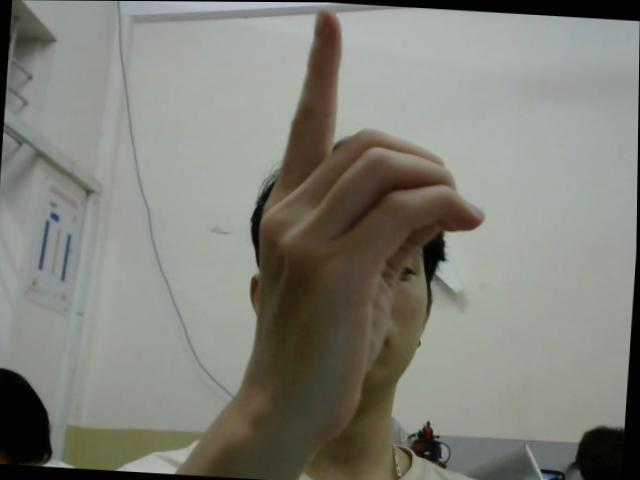D: (245, 2, 501, 434)
